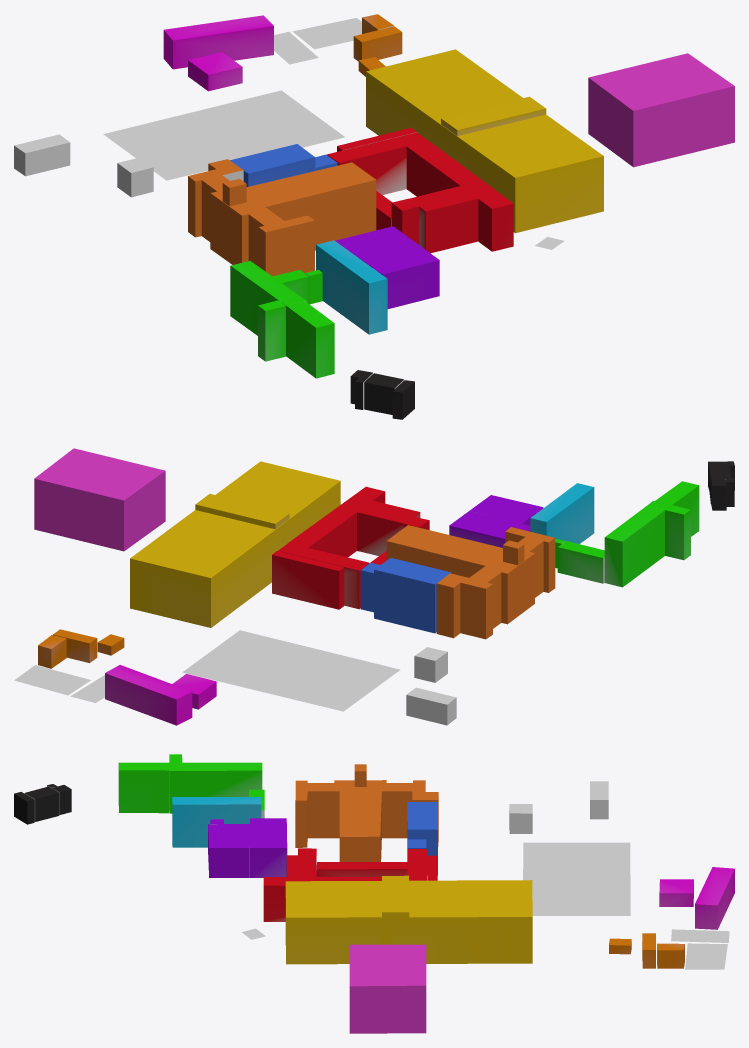
File: finalcreo.fbx
The picture shows the model from 3 angles, top to bottom: view 1: azimuth 30°, elevation 25°; view 2: azimuth 150°, elevation 25°; view 3: azimuth 270°, elevation 25°; orthographic projection. The views are drawn at different scales.
Parts seen in each view (by area): view 1: Plane; view 2: Plane; view 3: Plane.
Boxes of the visible parts, x1=… form: Plane: x1=14, y1=14, x2=734, y2=419; Plane: x1=14, y1=448, x2=734, y2=725; Plane: x1=14, y1=754, x2=734, y2=1033.
Size of the model in its own units: 1257 by 160 by 1616.
